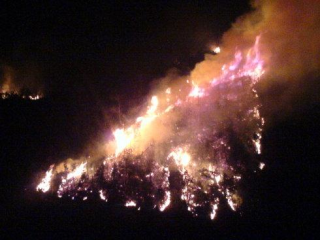fire: (230, 40, 271, 86), (27, 92, 44, 102)
smoke: (2, 72, 21, 101)
